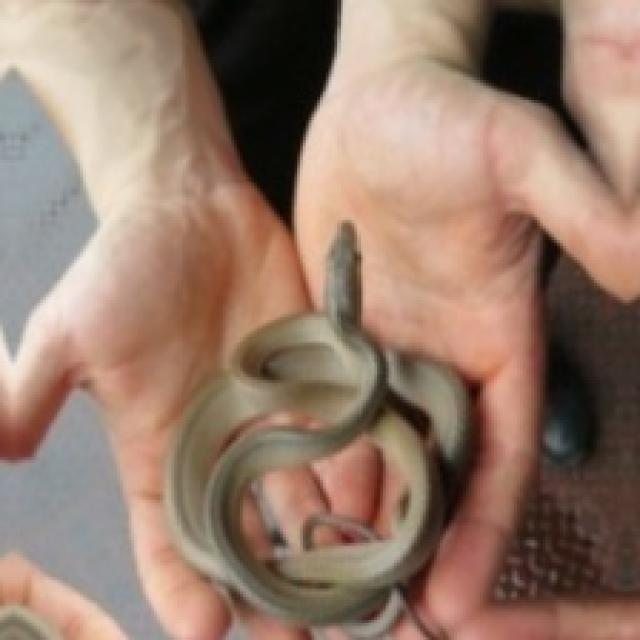red-tailed green ratsnake: (166, 223, 471, 637)
